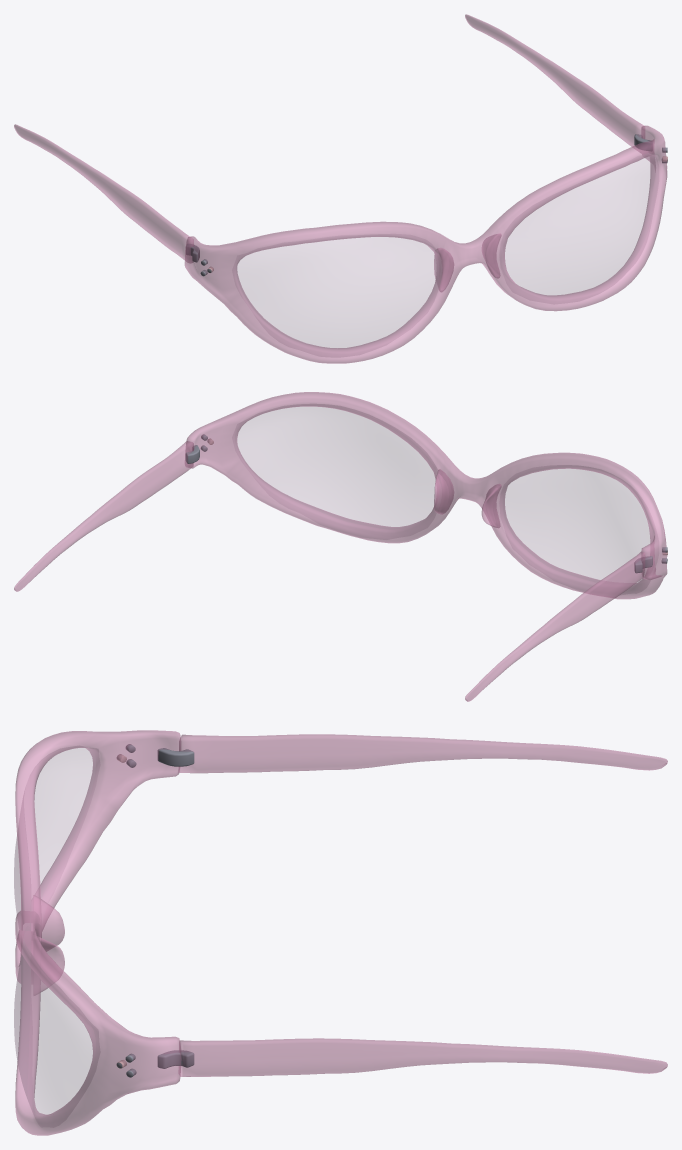
Rendered from quartz.glb.
3 views of the same model, one above another, from view 1: azimuth 30°, elevation 25°; view 2: azimuth 150°, elevation 25°; view 3: azimuth 270°, elevation 25° (orthographic). The views are drawn at different scales.
Parts seen in each view (by area): view 1: model_3.003; view 2: model_3.003; view 3: model_3.003.
Part boxes in pixels (box(x1,y1,x2,y2)): model_3.003: box(14, 14, 667, 363); model_3.003: box(14, 392, 667, 701); model_3.003: box(14, 730, 667, 1135).
Bounding box in the file's own units: 2.11 × 0.5847 × 1.84.
